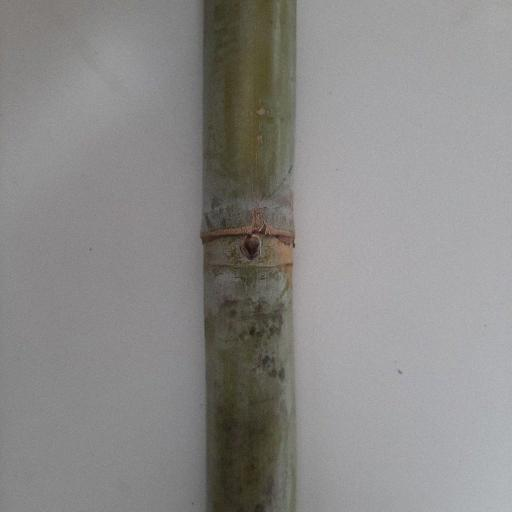Bud: (238, 234, 260, 259)
